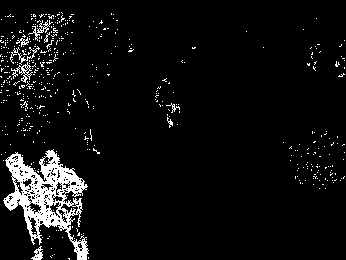person: (40, 151, 90, 260), (5, 152, 52, 260)
